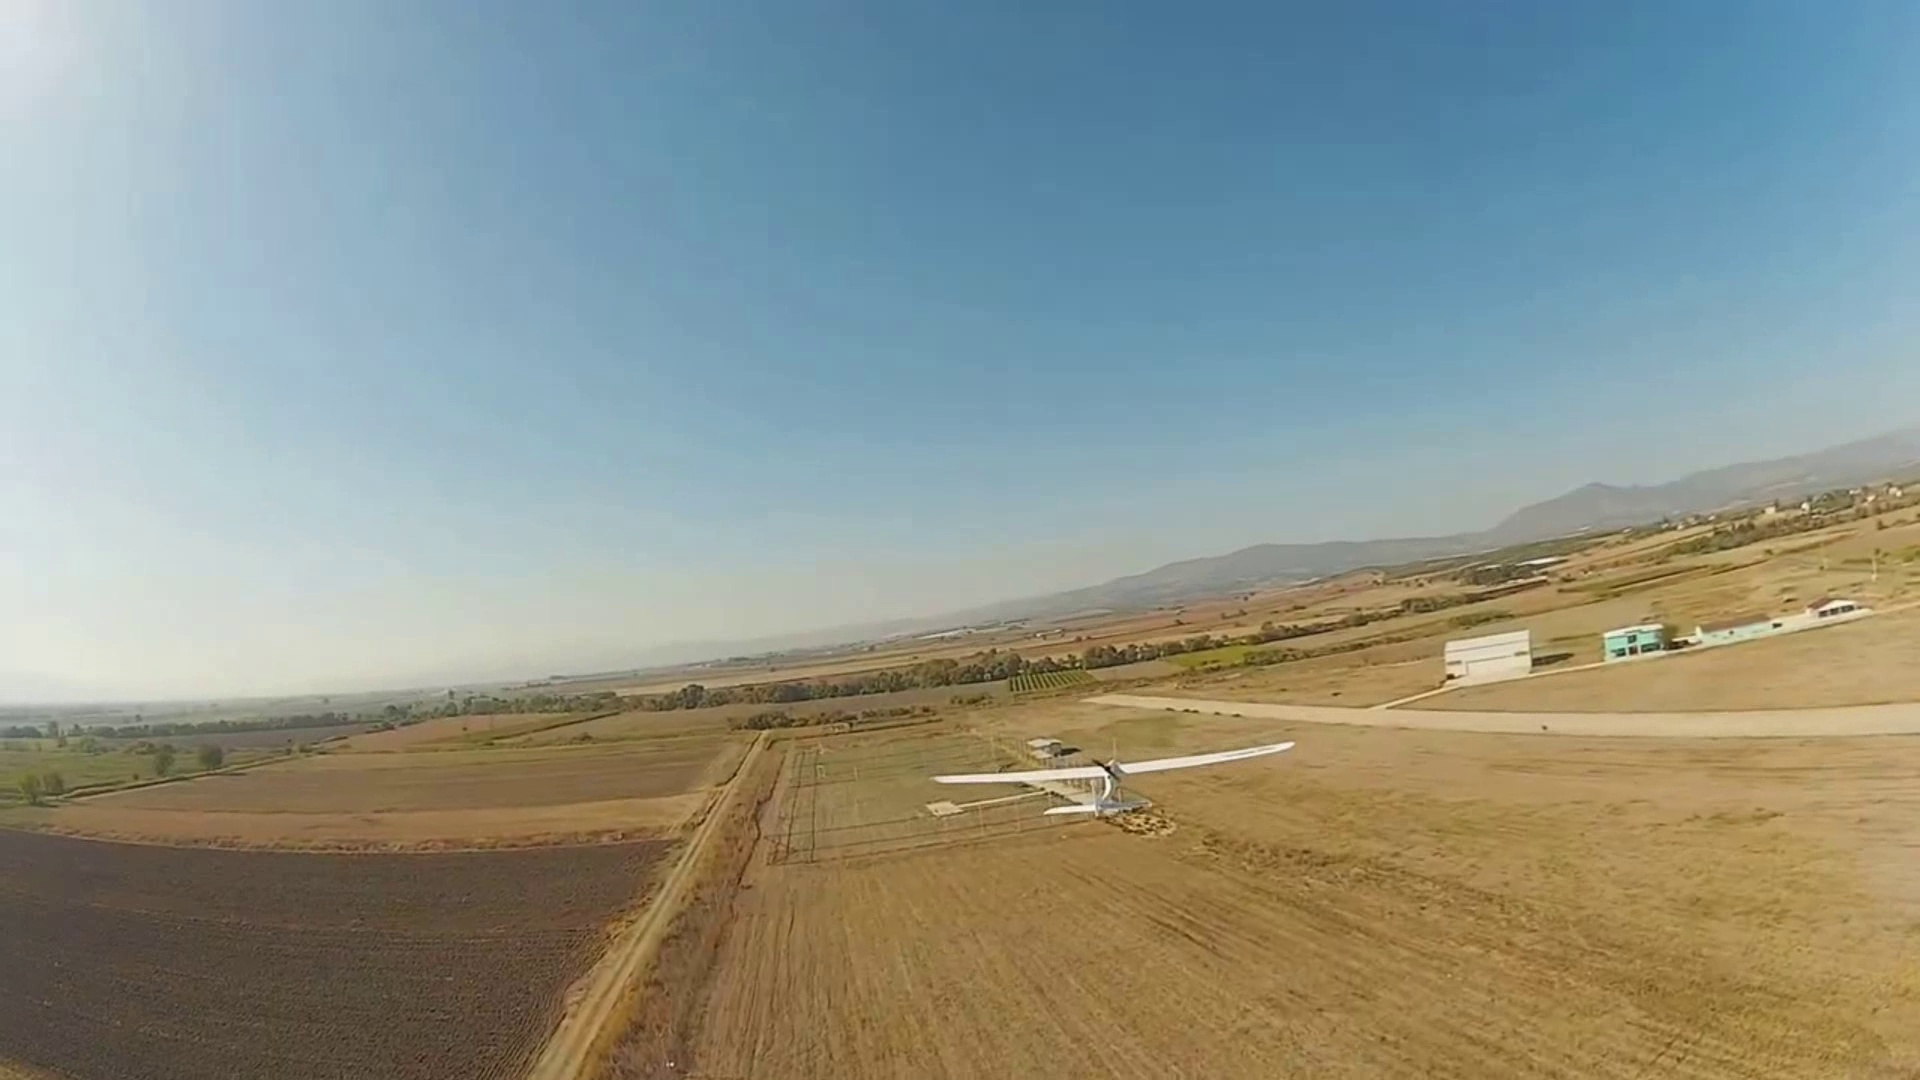airplane: (926, 722, 1299, 829)
